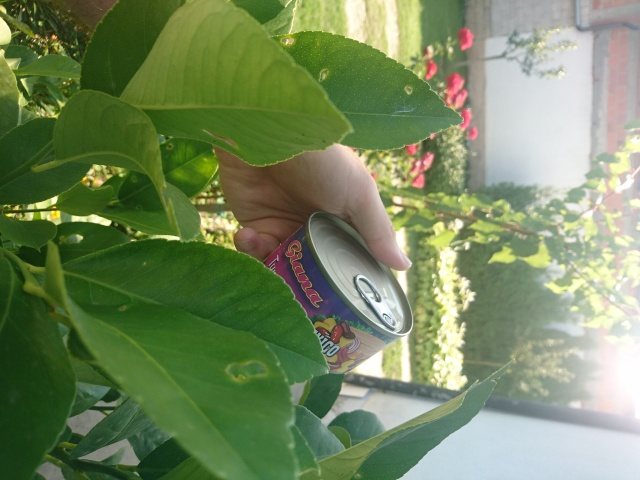Giana Tuna Salad Mexico 185g: (249, 208, 417, 378)
